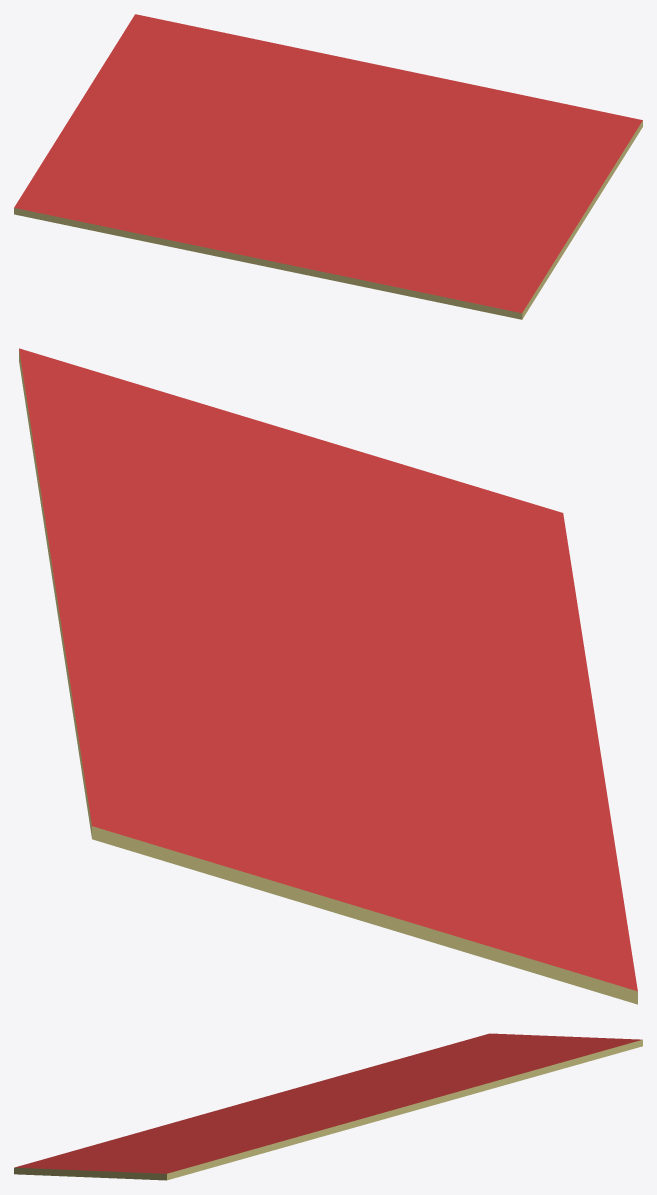
The picture shows the model from 3 angles, top to bottom: view 1: azimuth 30°, elevation 25°; view 2: azimuth 150°, elevation 25°; view 3: azimuth 270°, elevation 25°; orthographic projection. The views are drawn at different scales.
Bounding box in the file's own units: 7.41 × 8.52 × 1.46.
